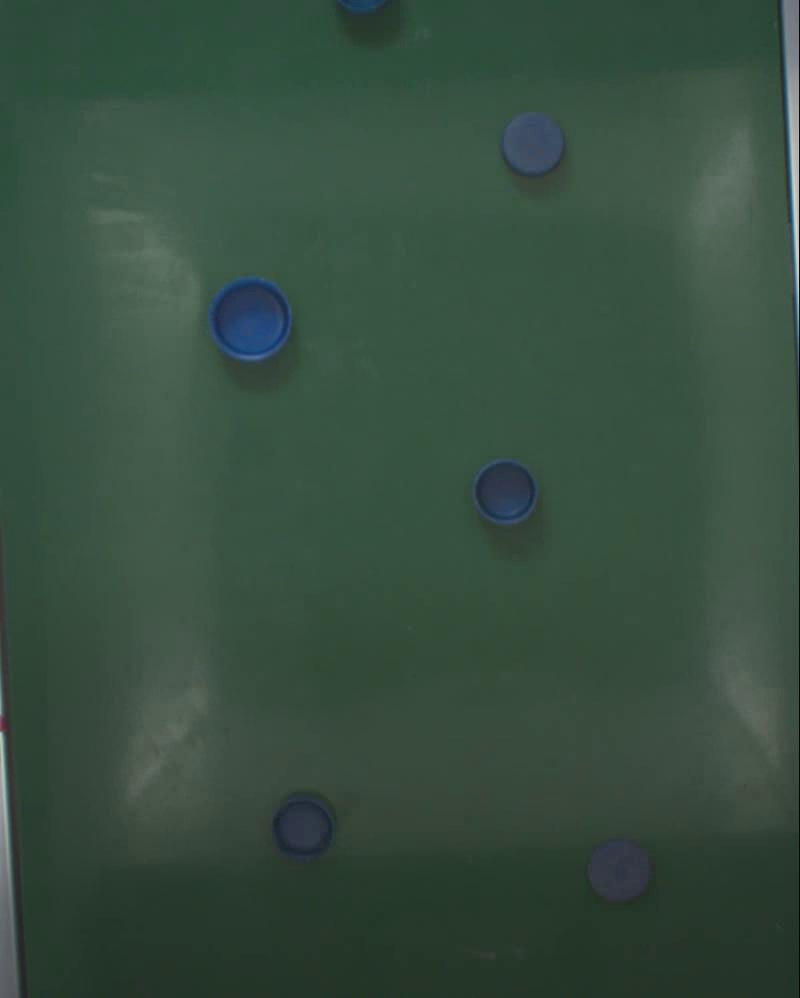dark_blue: (209, 276, 292, 362), (272, 792, 336, 863), (473, 459, 538, 526), (589, 838, 654, 904), (500, 112, 566, 176)
